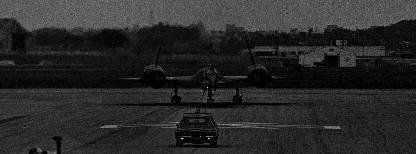Rafale: (108, 35, 306, 105)
